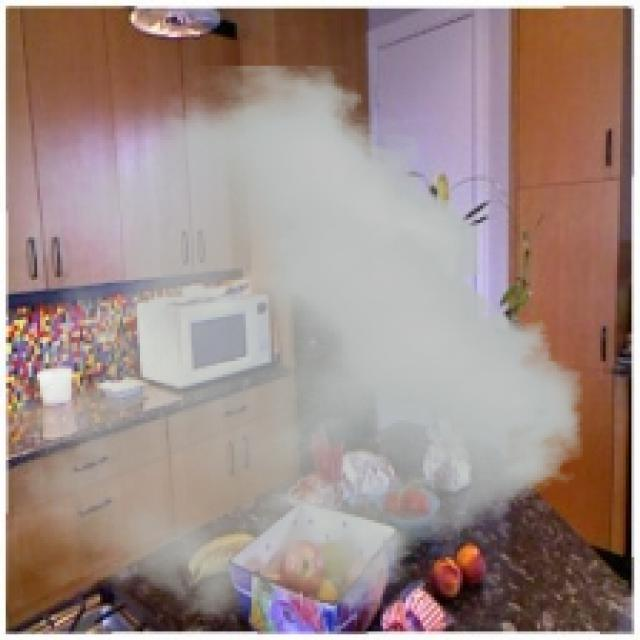Smoke: (14, 65, 583, 620)
